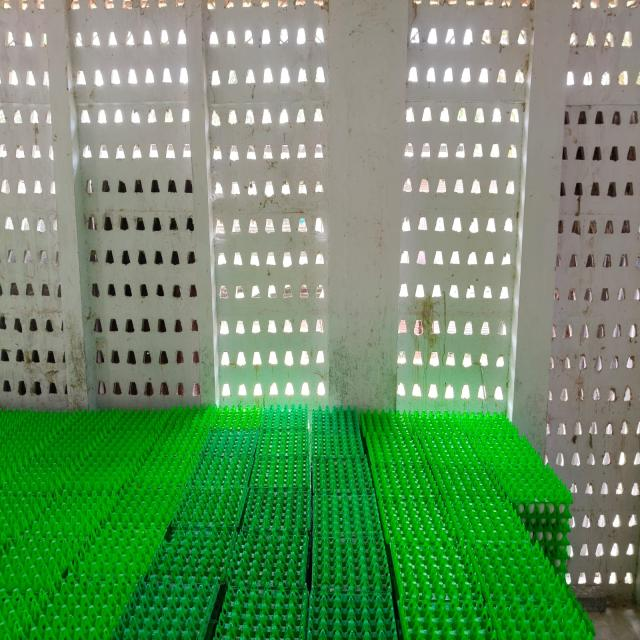egg_tray: (397, 2, 532, 410), (70, 2, 199, 404), (205, 2, 328, 402), (0, 2, 66, 408), (90, 349, 90, 350)
